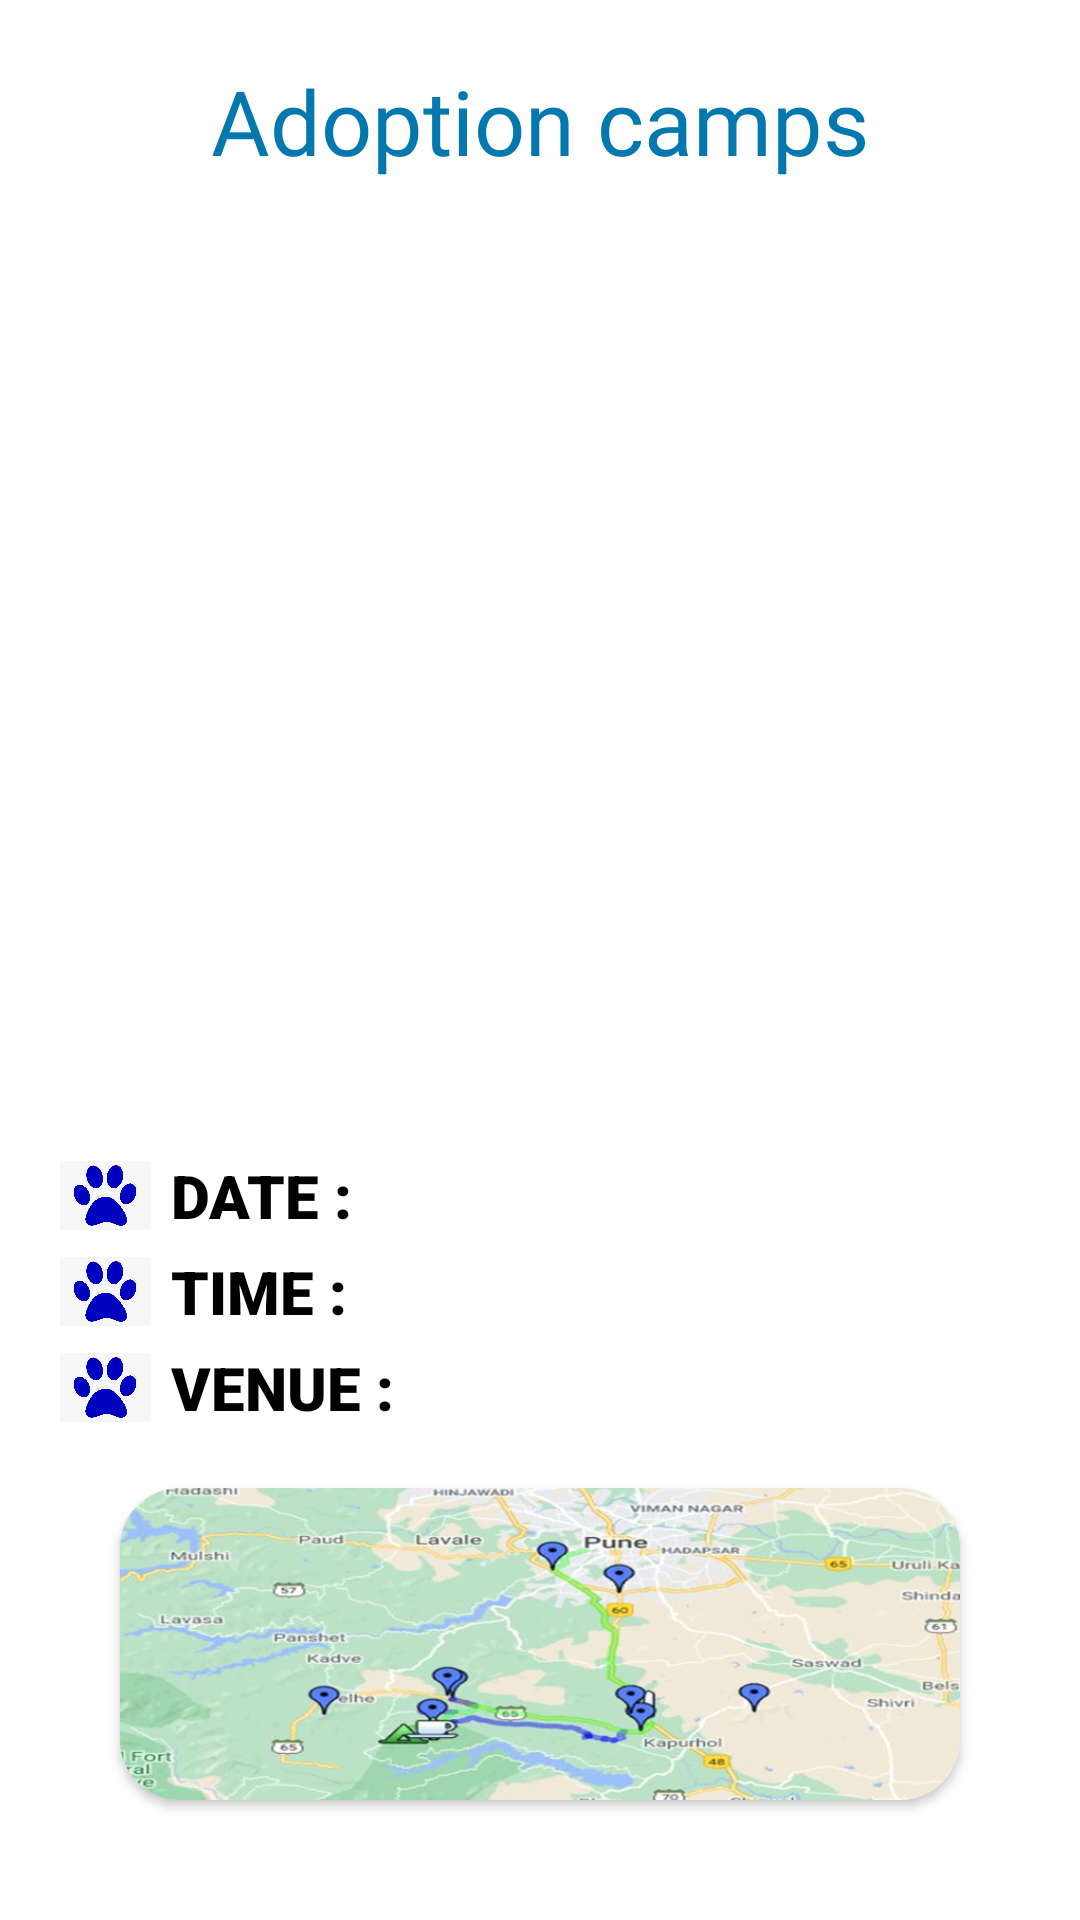

Icon bounding boxes for this 1080w x 1920h phone screenshot, format [x1, y1, x2, y2]:
paw: [74, 1165, 136, 1226], [74, 1261, 136, 1322], [74, 1357, 136, 1418]
